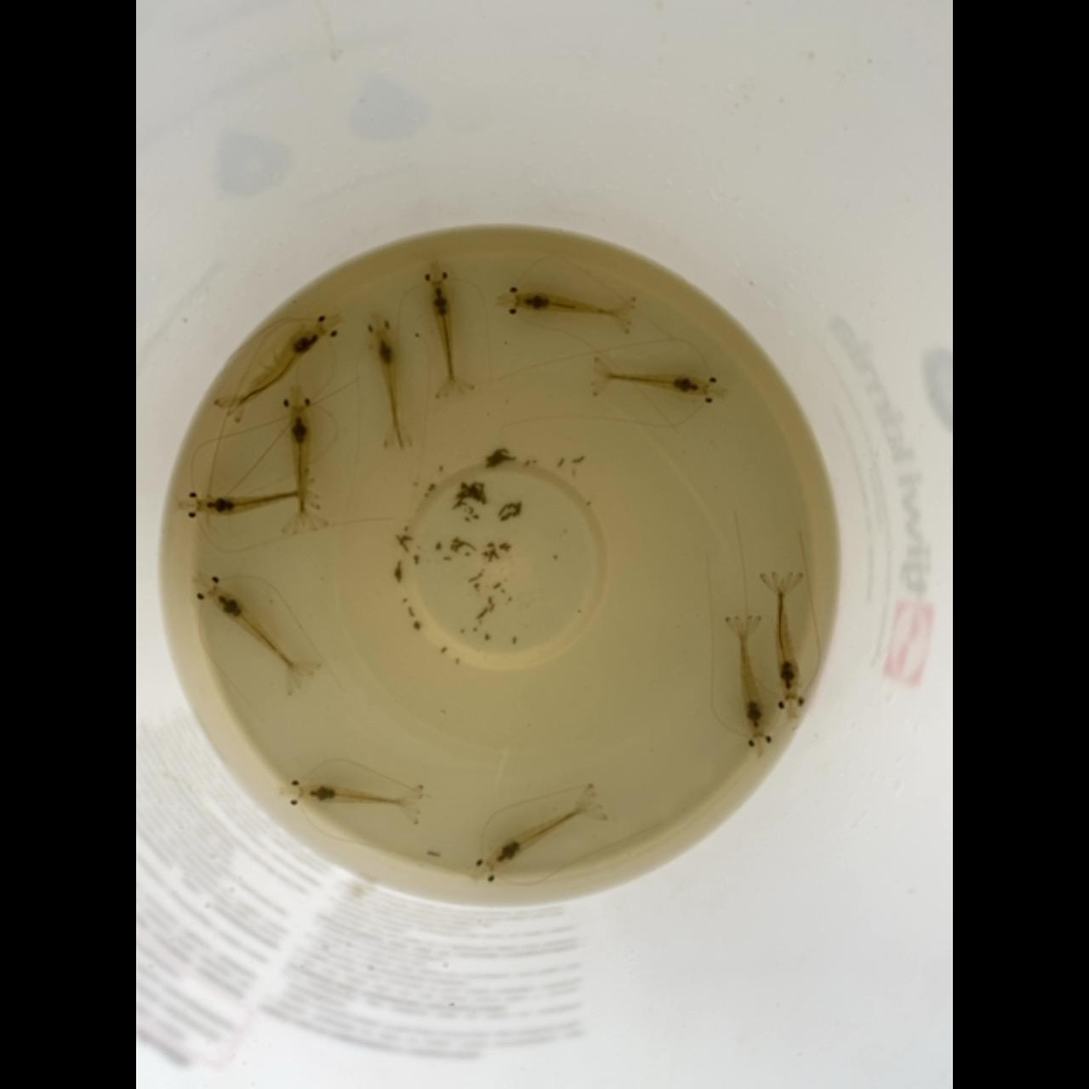round_base: (193, 243, 818, 877)
top_shrimp: (229, 326, 324, 410), (211, 588, 299, 674), (489, 802, 592, 870), (740, 623, 768, 735), (776, 580, 799, 698), (375, 331, 399, 438), (430, 282, 454, 388), (516, 292, 622, 316), (289, 408, 311, 523), (299, 784, 413, 806), (198, 493, 302, 516), (598, 373, 707, 394)
